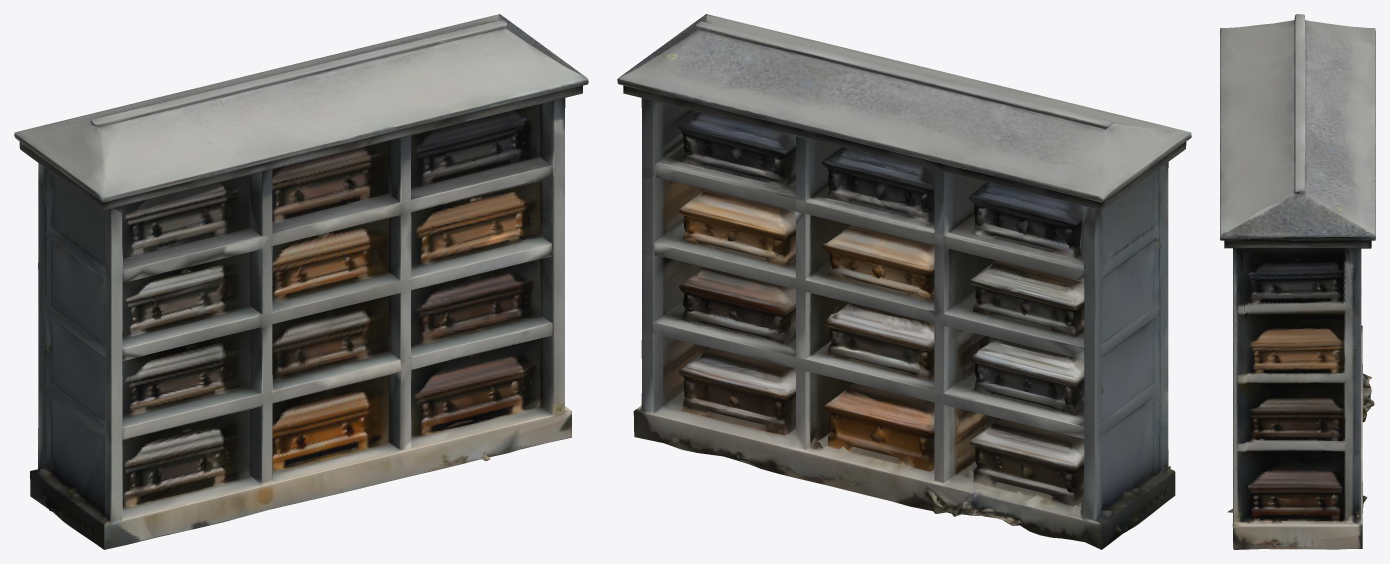
The model's file is coffinsWall.fbx.
The picture shows the model from 3 angles, left to right: view 1: azimuth 30°, elevation 25°; view 2: azimuth 150°, elevation 25°; view 3: azimuth 270°, elevation 25°; orthographic projection. The views are drawn at different scales.
Visible parts, largest first — view 1: tripo_node_fb5b17bb; view 2: tripo_node_fb5b17bb; view 3: tripo_node_fb5b17bb.
Boxes of the visible parts, bbox=[...] form: tripo_node_fb5b17bb: bbox=[14, 14, 588, 549]; tripo_node_fb5b17bb: bbox=[617, 14, 1191, 549]; tripo_node_fb5b17bb: bbox=[1220, 14, 1375, 549].
Size of the model in its own units: 0.9999 by 0.7819 by 0.3167.
Materials: 1 (1 with a texture image).
